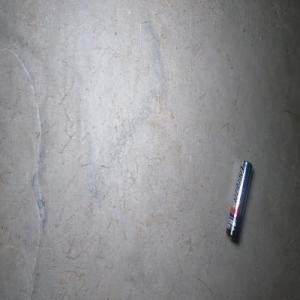Battery: (226, 159, 253, 243)
